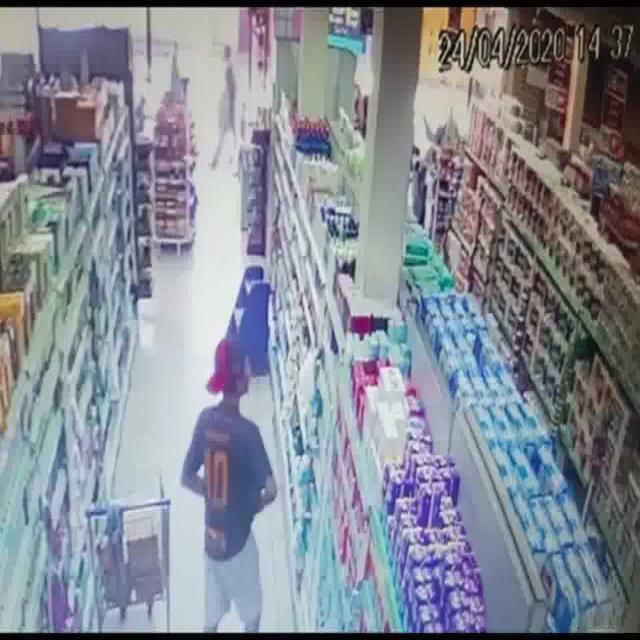Shoplifting: (182, 338, 276, 628)
